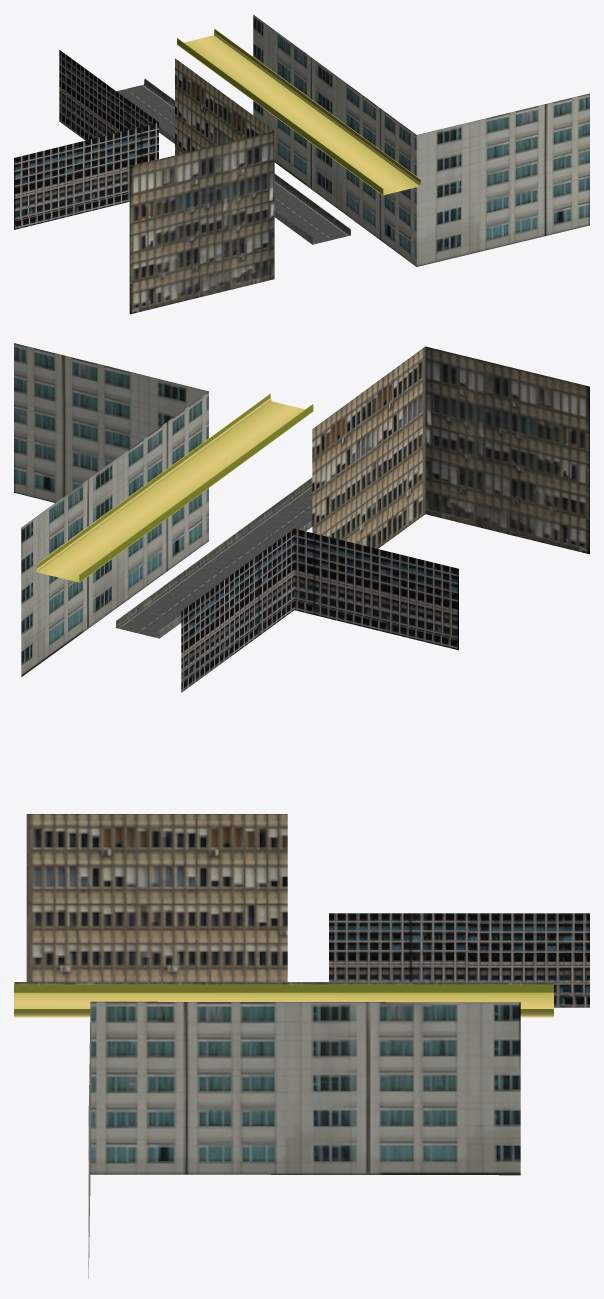
File: Enviroment_assets_1.5.fbx
3 views of the same model, one above another, from view 1: azimuth 30°, elevation 25°; view 2: azimuth 150°, elevation 25°; view 3: azimuth 270°, elevation 25° (orthographic). The views are drawn at different scales.
Visible parts, largest first — view 1: Cube.013, Plane.005, Road_plane, Plane.006, Plane.001, Plane.002; view 2: Cube.013, Plane.005, Road_plane, Plane.006, Plane.001; view 3: Cube.013, Plane.006, Plane.005, Plane.002.
Part boxes in pixels (<box>): Cube.013: <box>14,15,589,314</box>; Plane.005: <box>177,35,421,195</box>; Road_plane: <box>117,84,349,244</box>; Plane.006: <box>177,29,420,195</box>; Plane.001: <box>144,79,350,235</box>; Plane.002: <box>159,126,313,244</box>; Cube.013: <box>14,343,589,692</box>; Plane.005: <box>36,401,313,582</box>; Road_plane: <box>115,485,312,638</box>; Plane.006: <box>36,393,313,582</box>; Plane.001: <box>116,477,312,627</box>; Cube.013: <box>26,814,589,1278</box>; Plane.006: <box>14,984,553,1016</box>; Plane.005: <box>14,993,553,1017</box>; Plane.002: <box>14,982,553,984</box>.
Bounding box in the file's own units: 40642 × 15592 × 31992.
